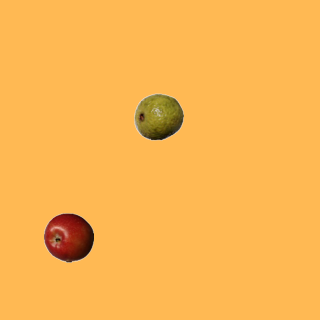Apple Braeburn: (43, 212, 93, 262)
Guava: (133, 91, 183, 141)
